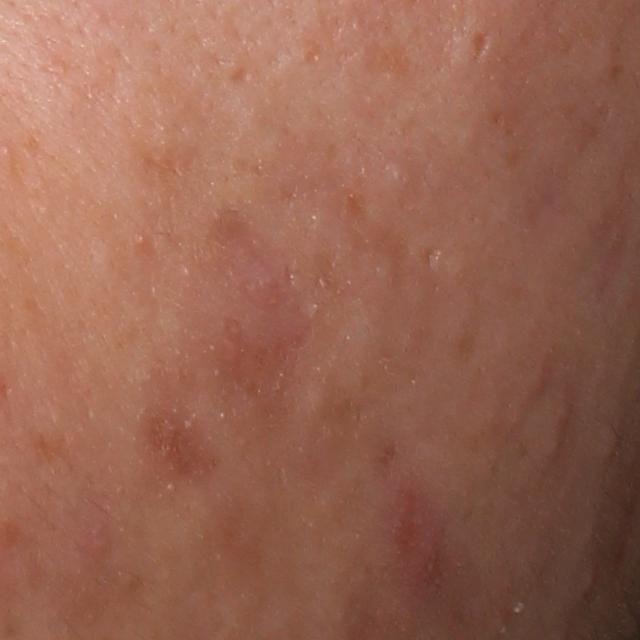atrophic_scar: (471, 29, 491, 63), (420, 243, 440, 270), (225, 65, 252, 85)
comedo: (384, 158, 416, 193), (132, 227, 151, 251)
